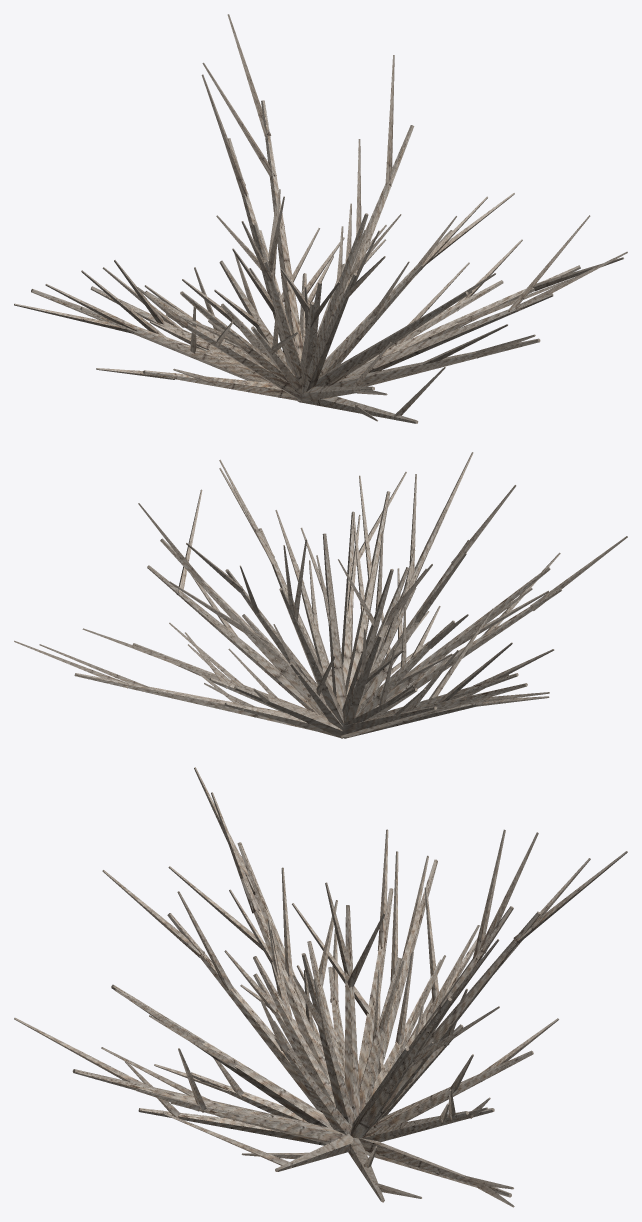
Rendered from dry-bush-v01.glb.
3 renders of one model, top to bottom at view 1: azimuth 30°, elevation 25°; view 2: azimuth 150°, elevation 25°; view 3: azimuth 270°, elevation 25°, orthographic. The views are drawn at different scales.
Visible parts, largest first — view 1: dry-bush; view 2: dry-bush; view 3: dry-bush.
Part boxes in pixels (bbox=[...]): dry-bush: bbox=[14, 14, 627, 423]; dry-bush: bbox=[14, 452, 627, 738]; dry-bush: bbox=[14, 767, 627, 1207].
Size of the model in its own units: 2.55 by 1.3 by 2.23.
1 material, 1 textured.
